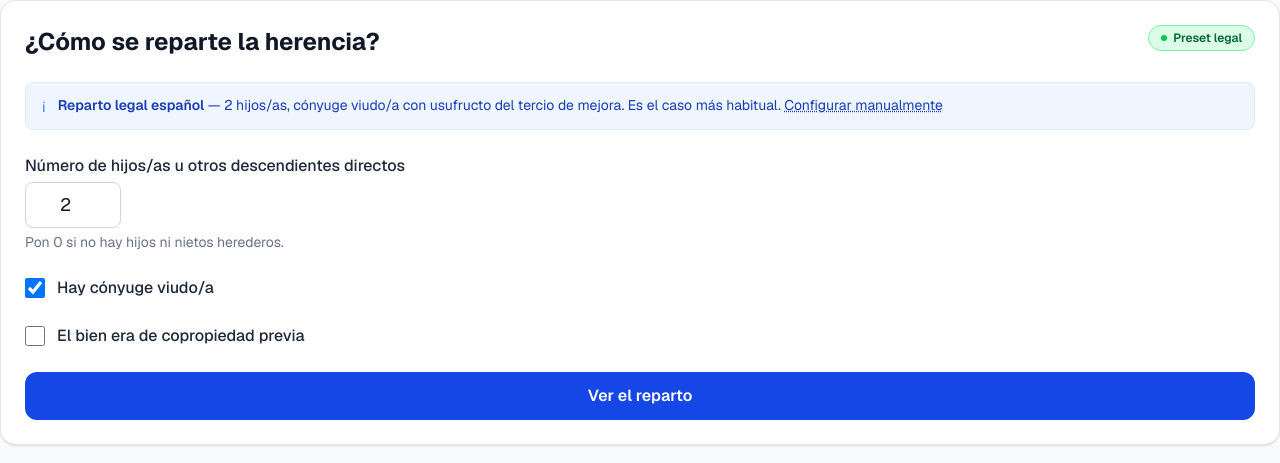
SimulatorForm — preset reparto legal › hides preset badge and banner after clicking "Configurar manualmente"
This screenshot has width=1280, height=463.
Click the button "Configurar manualmente" at [864, 105], box top-left (784, 95), bottom-right (943, 115)
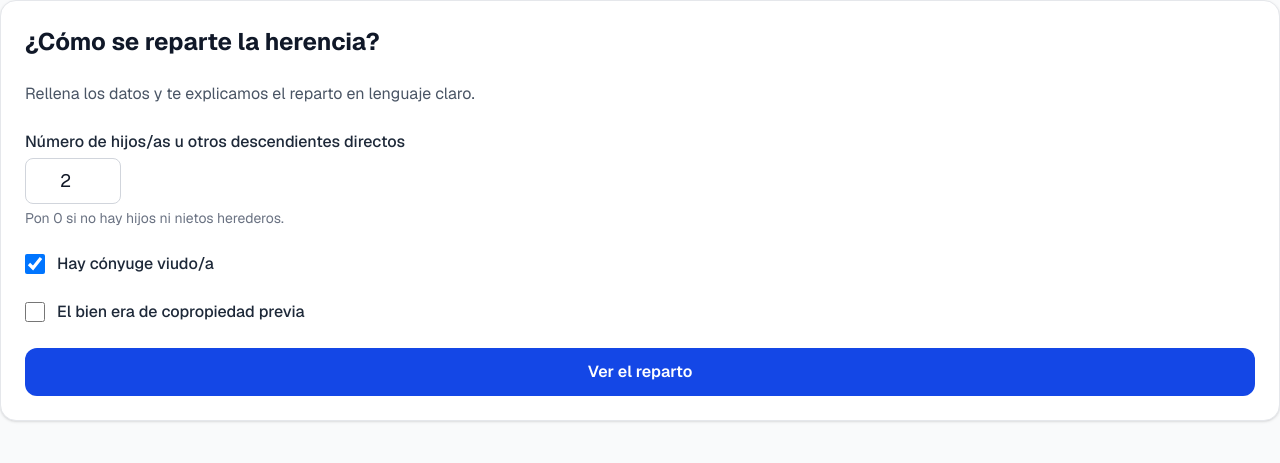
Check: the text "Reparto legal español" is gone
